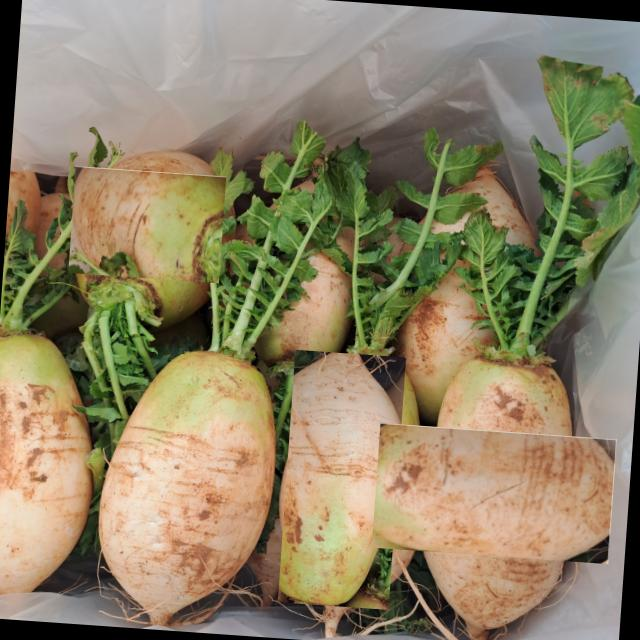radish: (110, 350, 266, 623), (398, 396, 590, 590), (277, 348, 407, 610), (78, 156, 216, 294)
